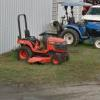Tractor: (15, 11, 69, 66)
